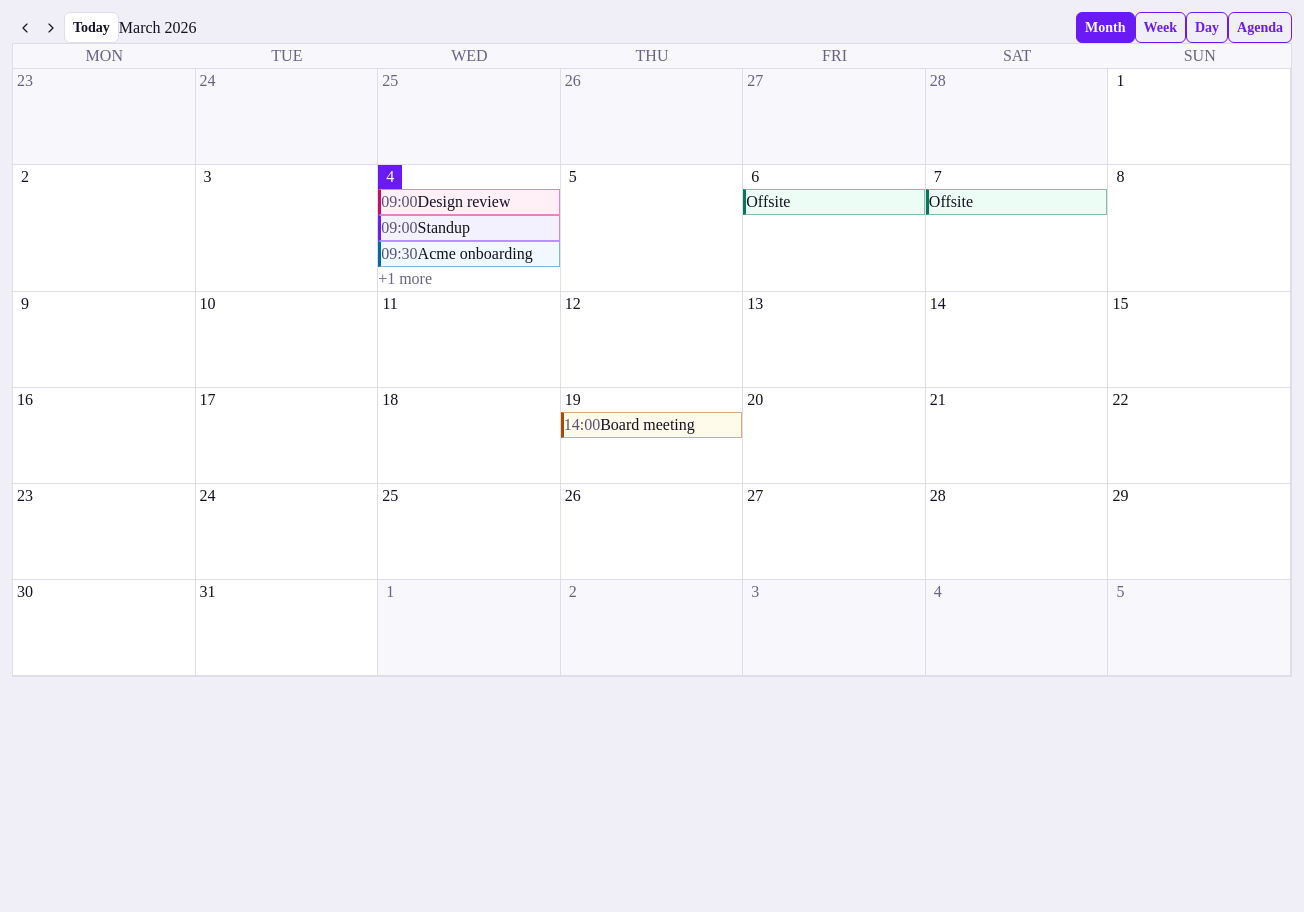
SchedulerComponent › switches views, and each one shows its own range
The width and height of the screenshot is (1304, 912).
What coordinates should you click on to do the following:
click the button "Week"
I would click on:
 (1160, 28)
Its box is [1134,12,1186,43].
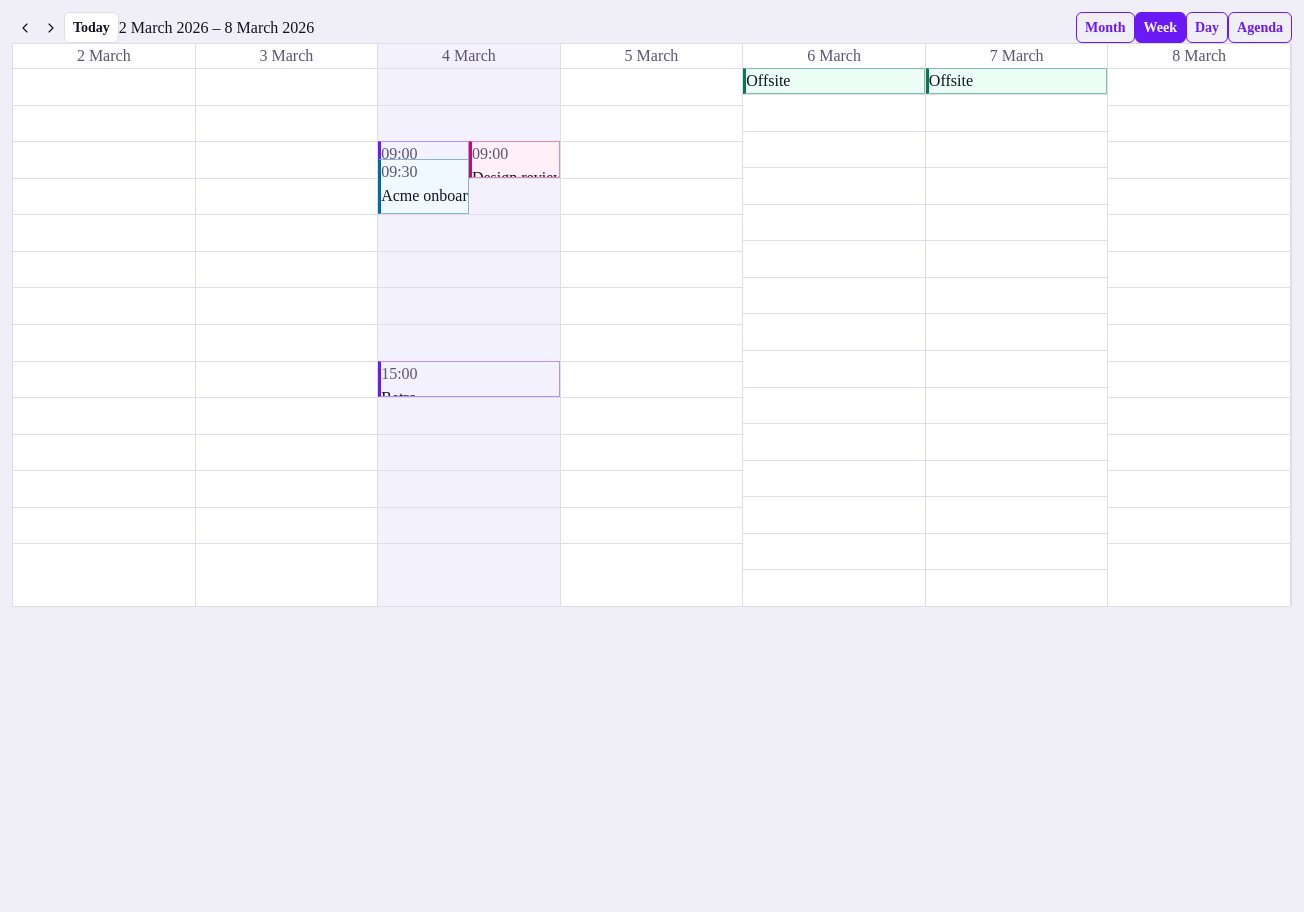
What coordinates should you click on to do the following:
click the button "Day"
I would click on:
 (1207, 28)
Its box is [1186,12,1228,43].
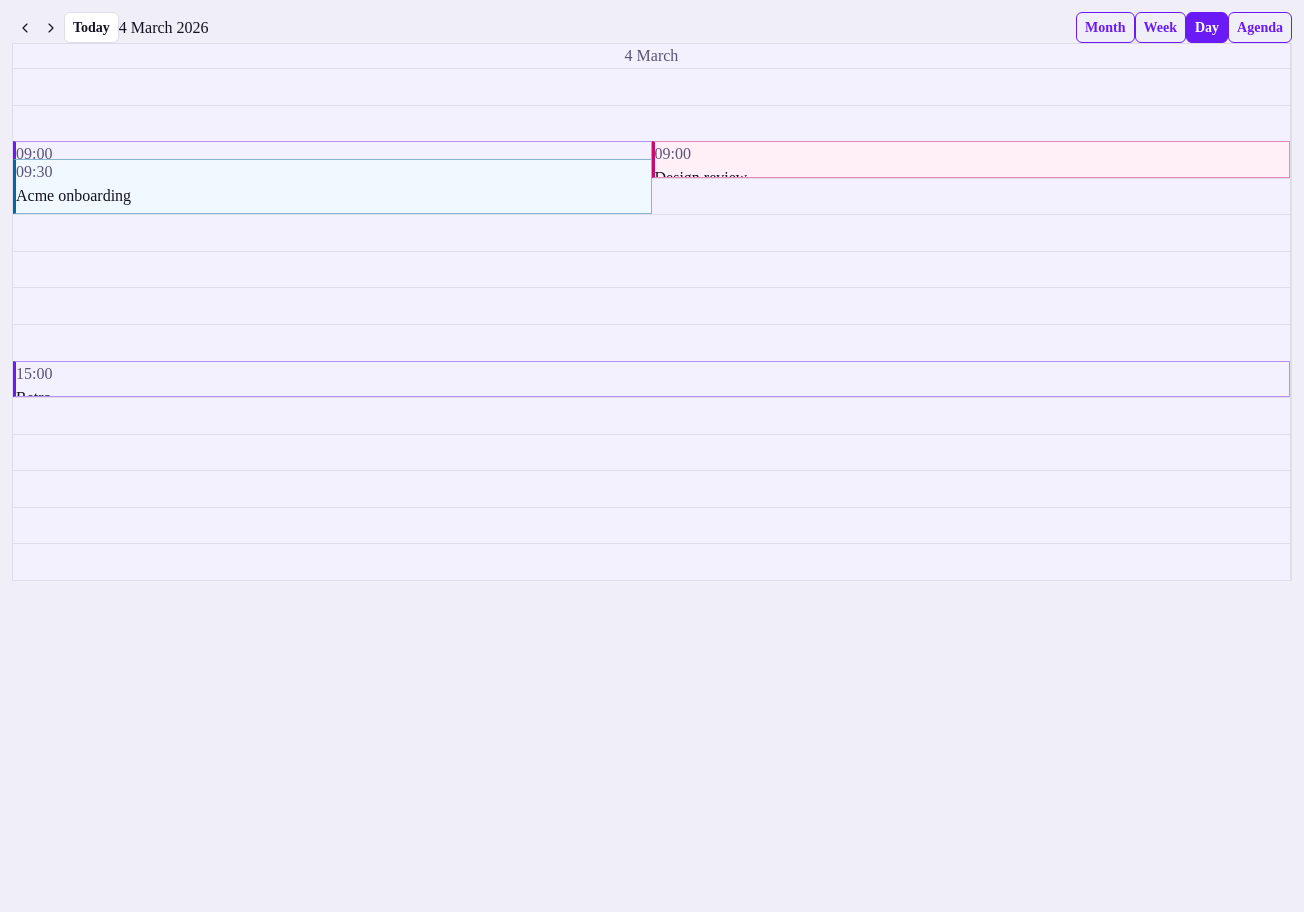
What coordinates should you click on to do the following:
click the button "Agenda"
I would click on:
 (1260, 28)
Its box is [1228,12,1292,43].
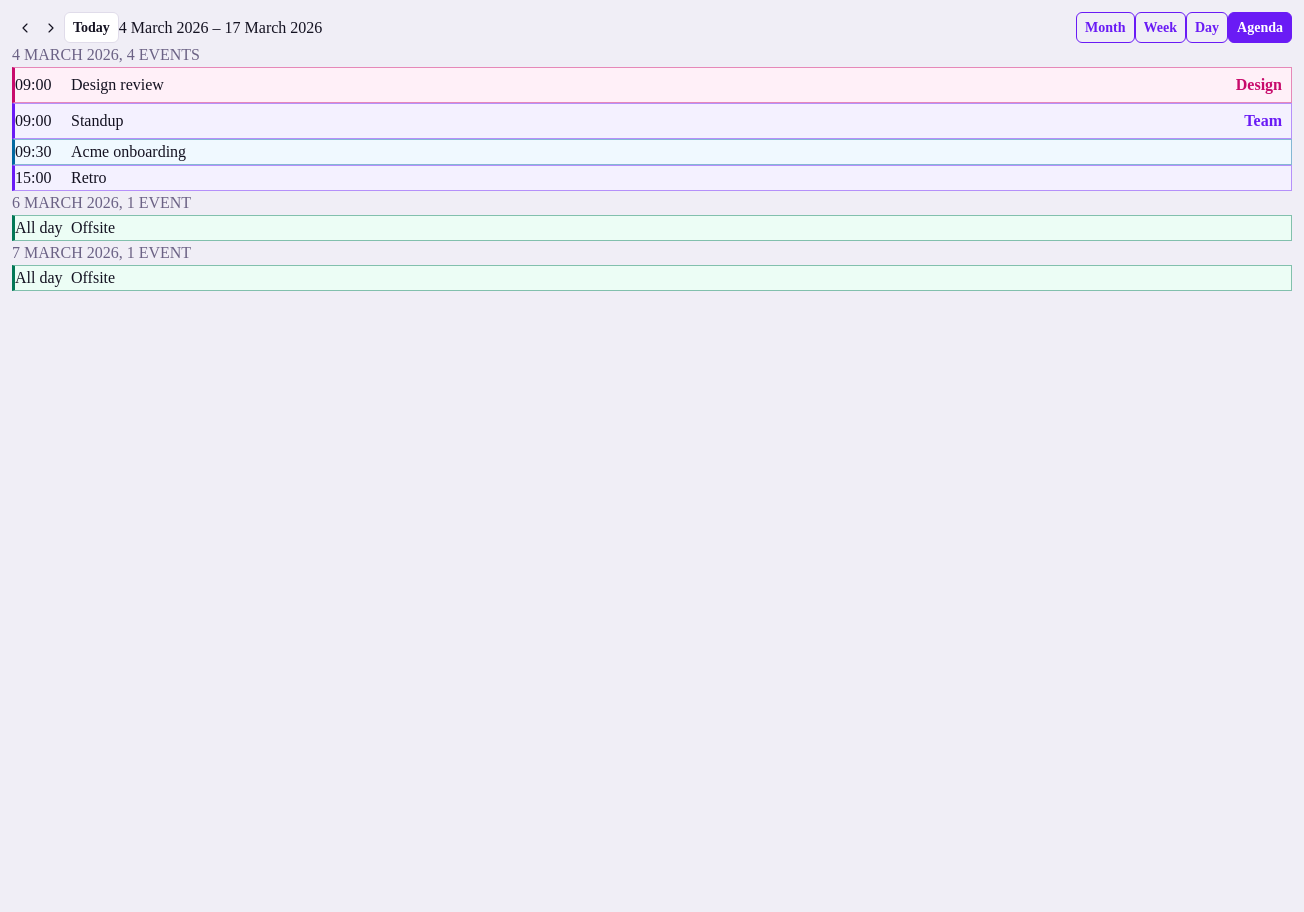
Now the list with class "ds-scheduler__agenda" is shown, box [12,43,1292,291]
